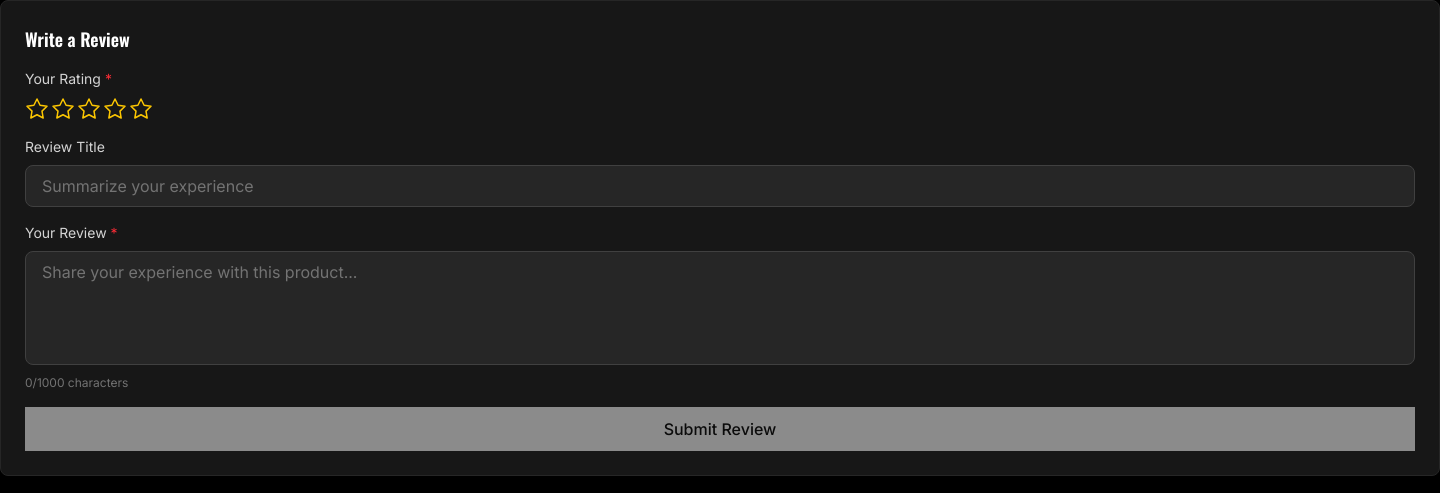
ReviewForm › updates character count as user types
Type "Hello World" into the text box labelled "Your Review *" at (720,308), box top-left (25, 251), bottom-right (1415, 365)
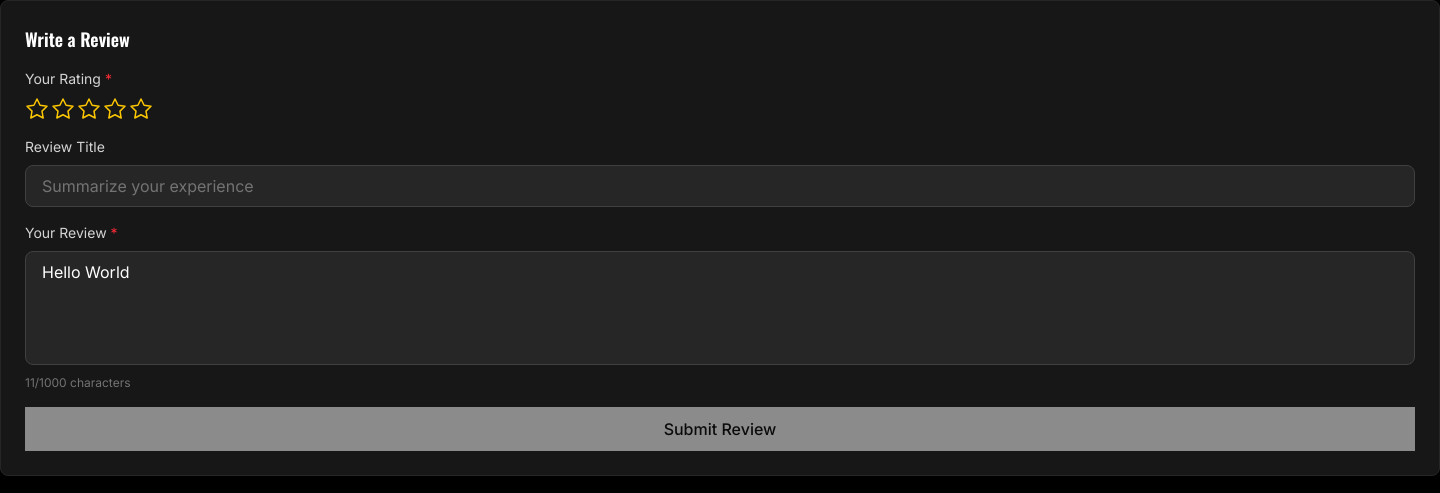
Expected: the text "11/1000 characters" is shown, top-left (25, 375), bottom-right (130, 390)
